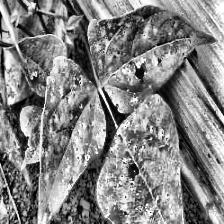Bean Rust: (88, 2, 215, 114), (100, 104, 197, 224), (37, 51, 103, 224)
